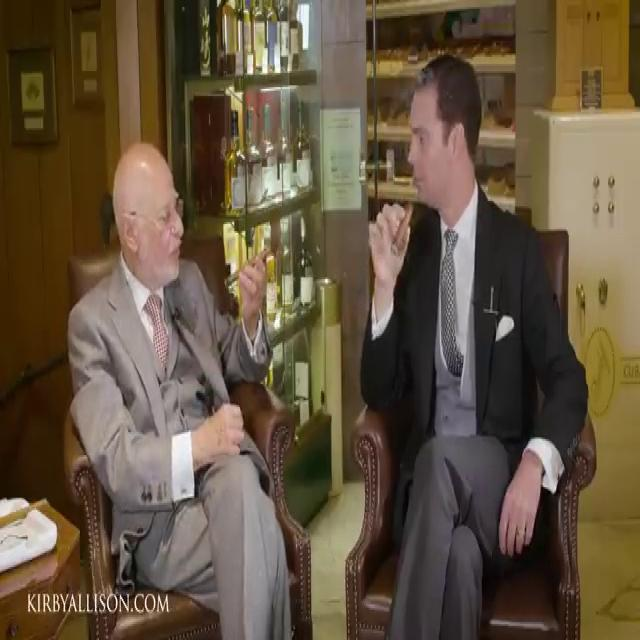Smooking: (387, 192, 422, 271)
